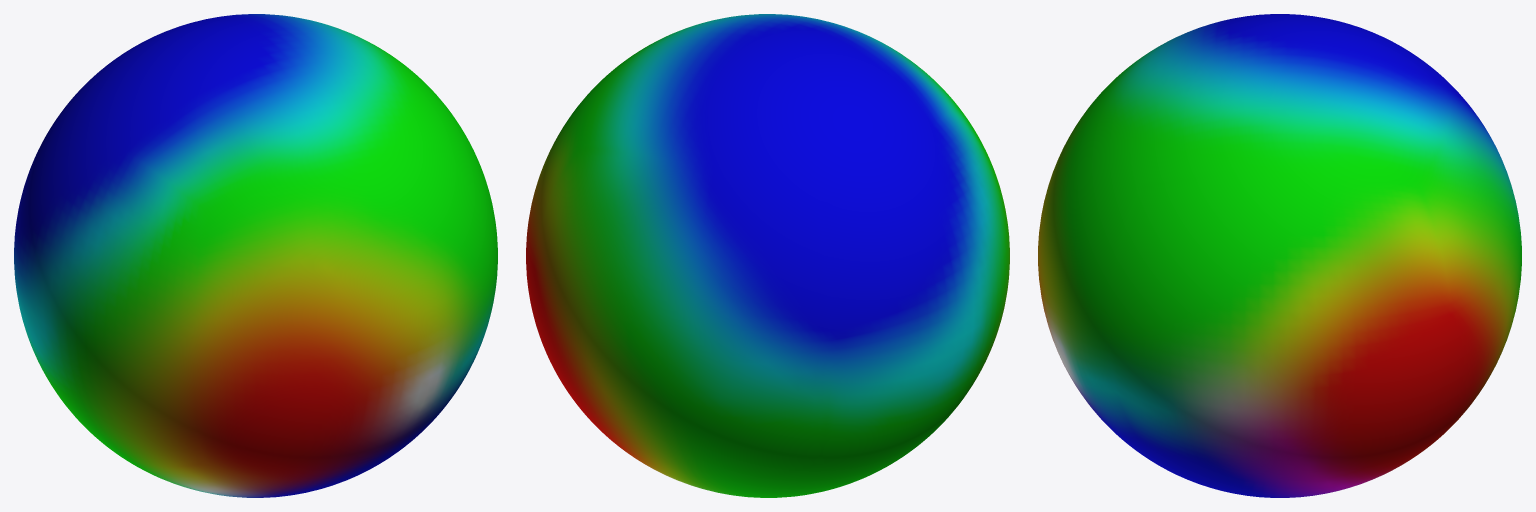
3 views of the same model, side by side, from view 1: azimuth 30°, elevation 25°; view 2: azimuth 150°, elevation 25°; view 3: azimuth 270°, elevation 25° (orthographic).
Parts seen in each view (by area): view 1: Sphere; view 2: Sphere; view 3: Sphere.
Part boxes in pixels (x1,y1,x2,y2): Sphere: (14,14,497,497); Sphere: (526,14,1009,497); Sphere: (1038,14,1521,497).
Bounding box in the file's own units: 200 × 200 × 200.
